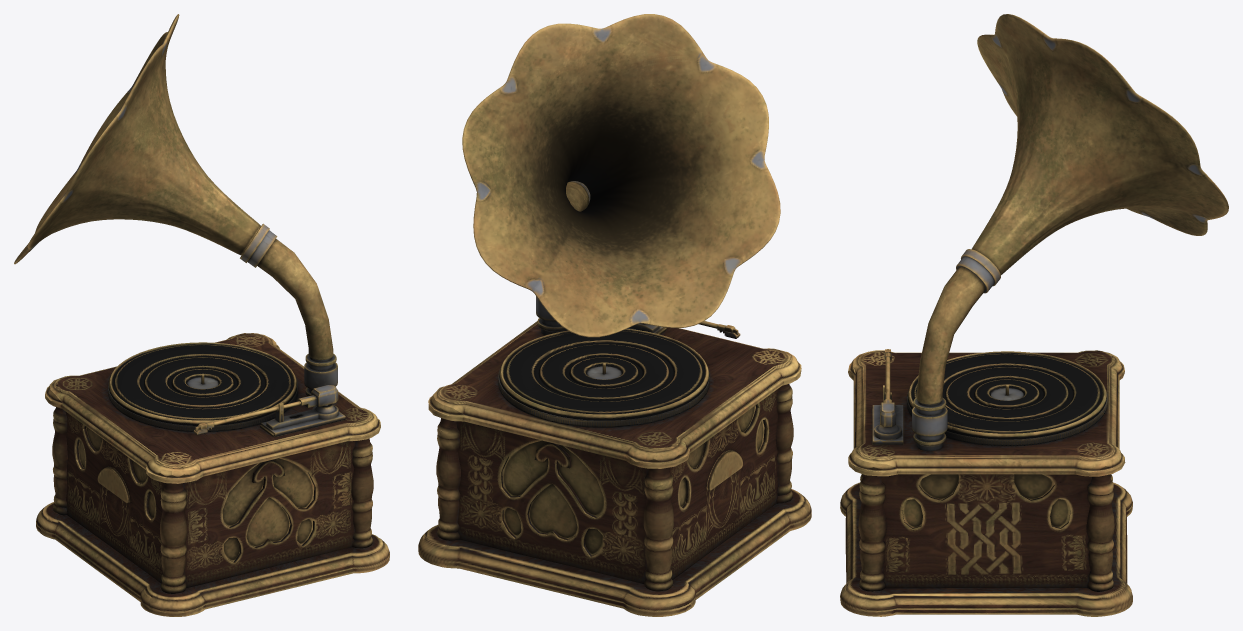
Rendered from SM_Gramophone.fbx.
3 renders of one model, left to right at view 1: azimuth 30°, elevation 25°; view 2: azimuth 150°, elevation 25°; view 3: azimuth 270°, elevation 25°, orthographic. The views are drawn at different scales.
Visible parts, largest first — view 1: SM_Gramophone_LOD0; view 2: SM_Gramophone_LOD0; view 3: SM_Gramophone_LOD0.
Boxes of the visible parts, left/top/right/bottom form: SM_Gramophone_LOD0: left=14, top=14, right=389, bottom=616; SM_Gramophone_LOD0: left=418, top=14, right=811, bottom=616; SM_Gramophone_LOD0: left=840, top=14, right=1228, bottom=616.
Size of the model in its own units: 107 by 121 by 177.
1 material, 1 textured.
